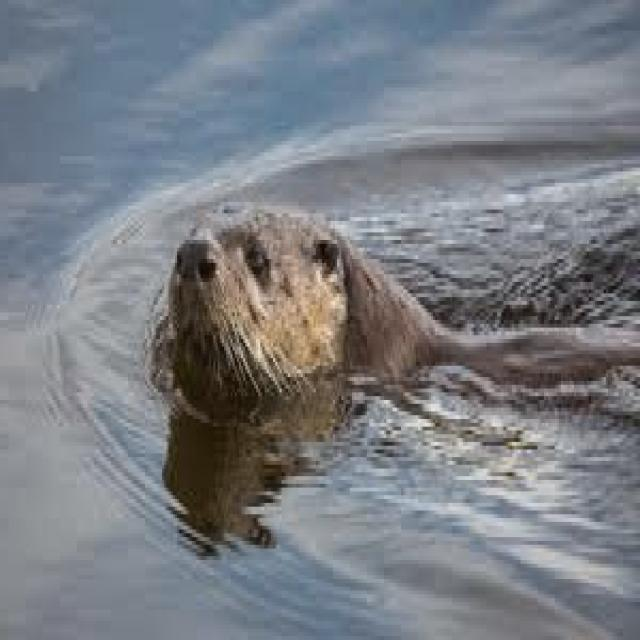otter: (154, 210, 640, 423)
